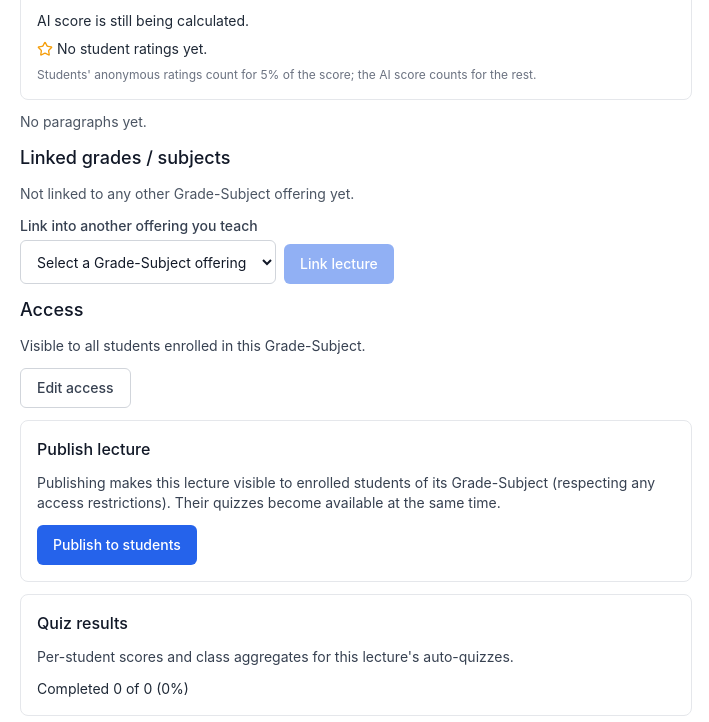
Test case: LectureAccessPanel (T-123) › shows an inline error when saving access settings fails
This screenshot has width=709, height=722.
(page scrolled)
Click the button "Edit access": [75, 388] box [20,368,130,408]
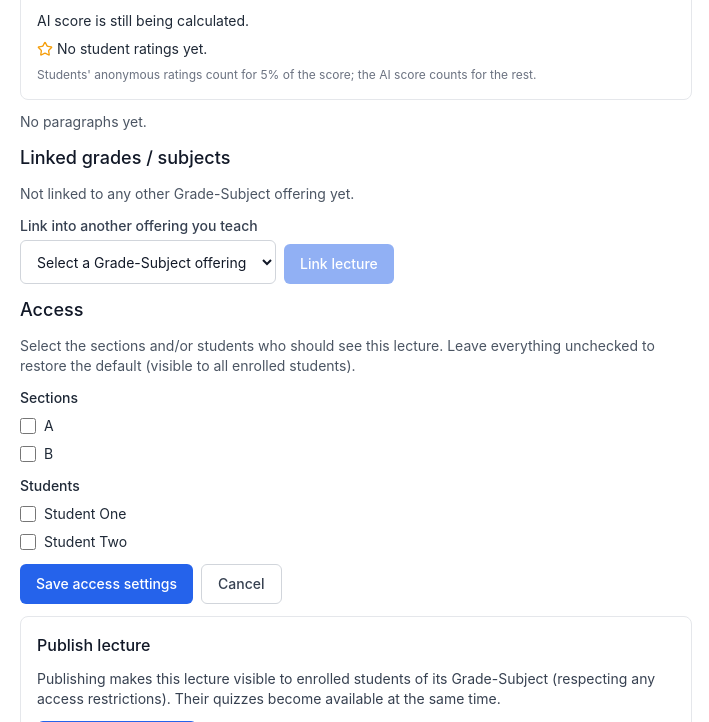
Click the button "Save access settings": [107, 584] box [20,564,193,604]
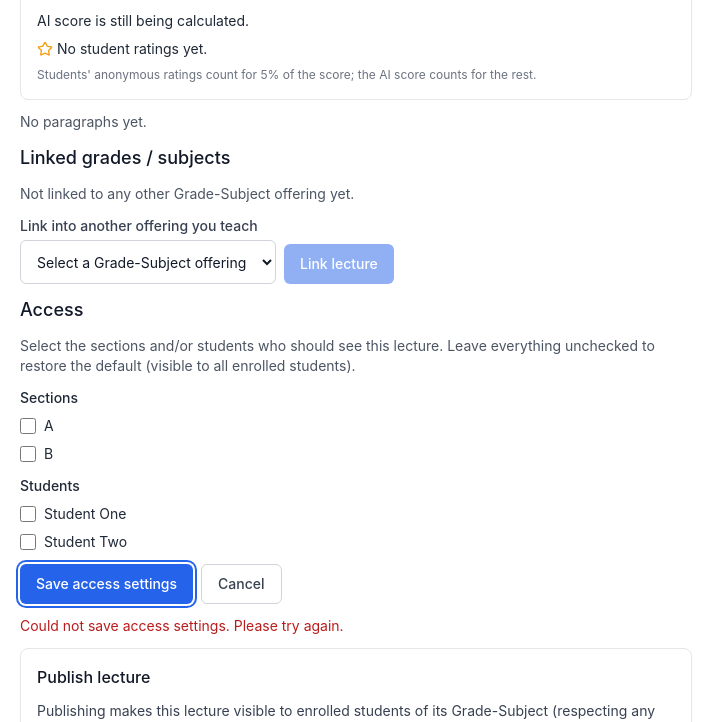
Check: the message "Could not save access settings. Please try again." is shown, box [20,617,344,634]
